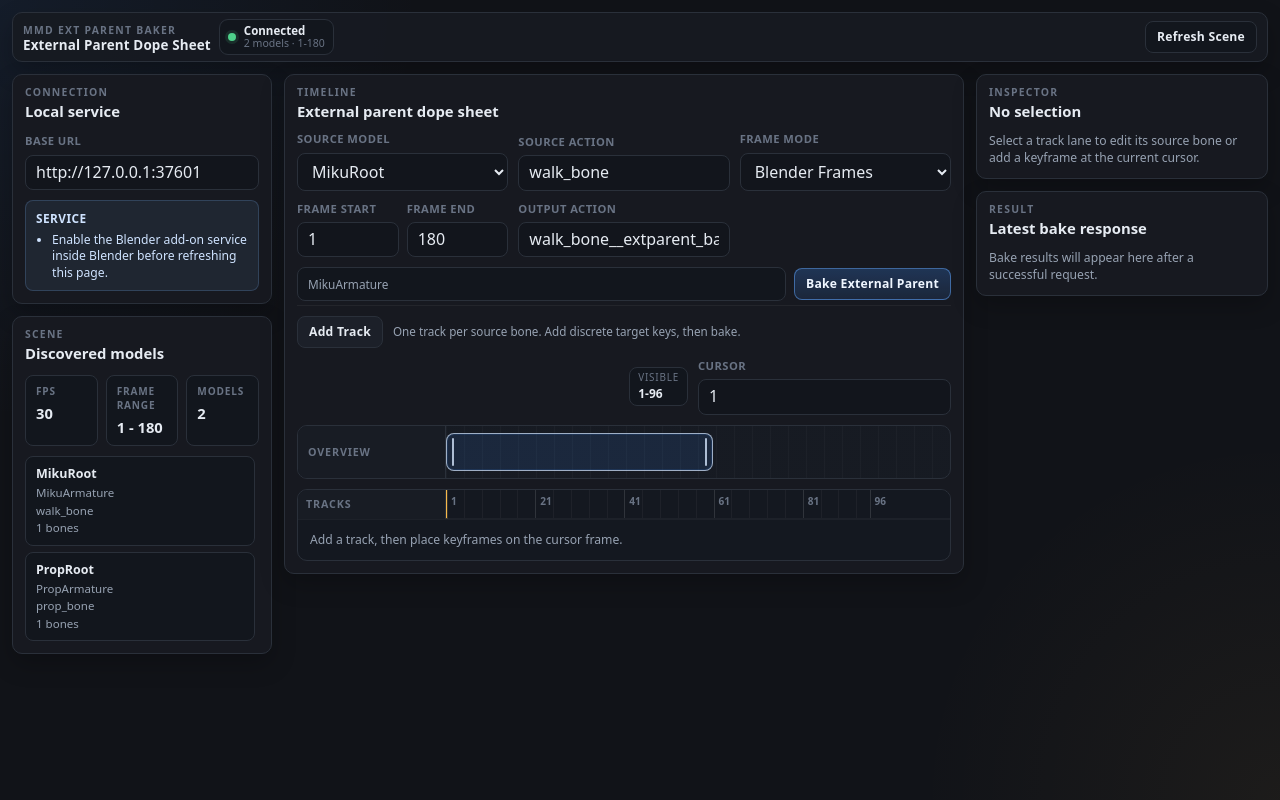
BakerPage timeline workflow › switches the right inspector from track mode to keyframe mode when a keyframe is selected
The image size is (1280, 800).
Expected: the field showing "walk_bone" is shown, [518,155,730,190]
Click the button "Add Track" at (340, 332), box [297,316,383,348]
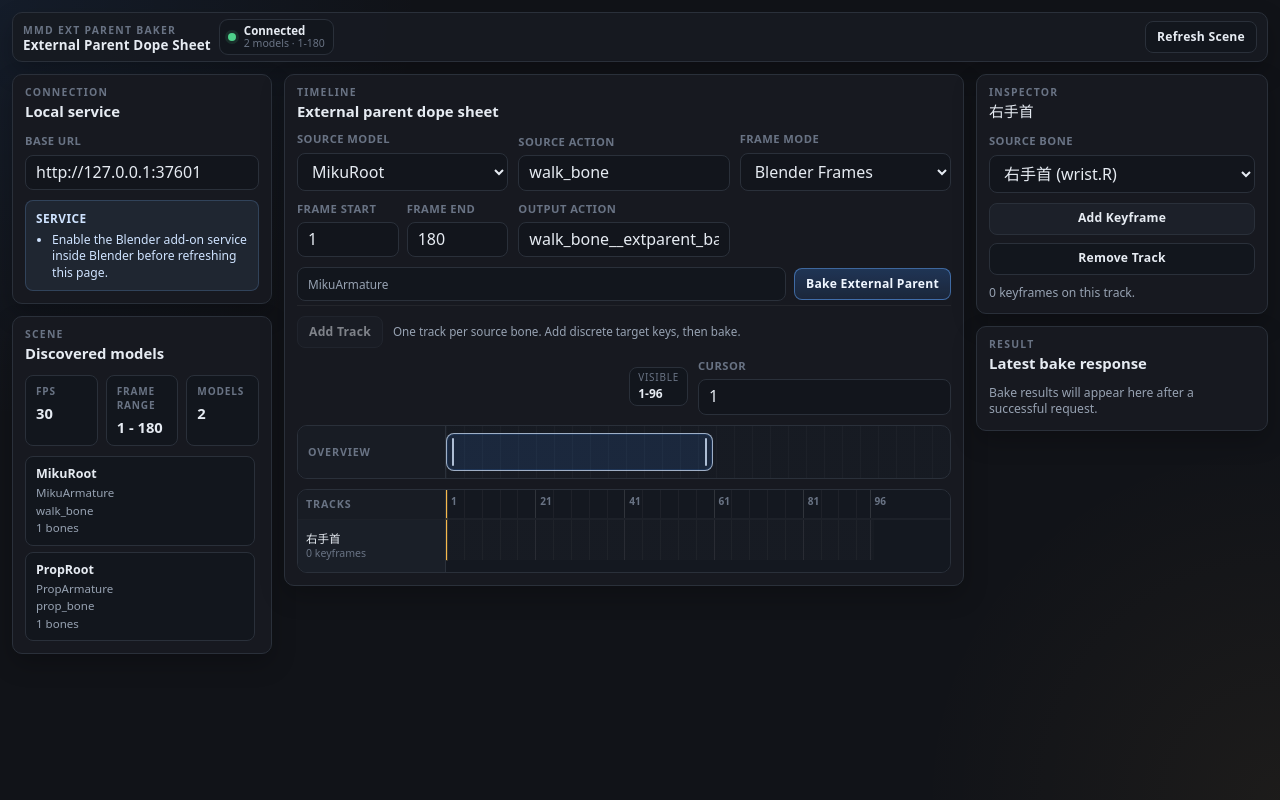
Click the button "Add Keyframe" at (1122, 218), box [989,202,1255,234]
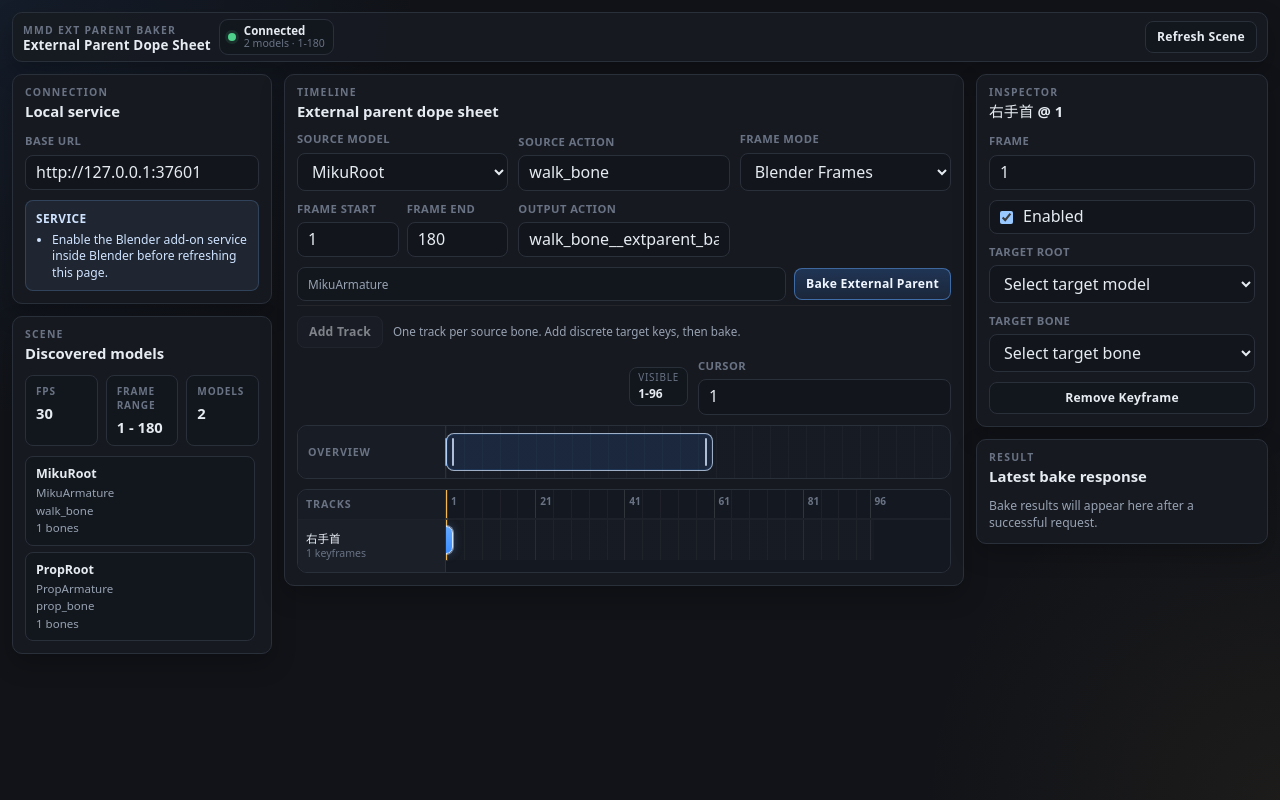
Result: the element named "Keyframe Inspector" is shown at [976,74,1268,427]
